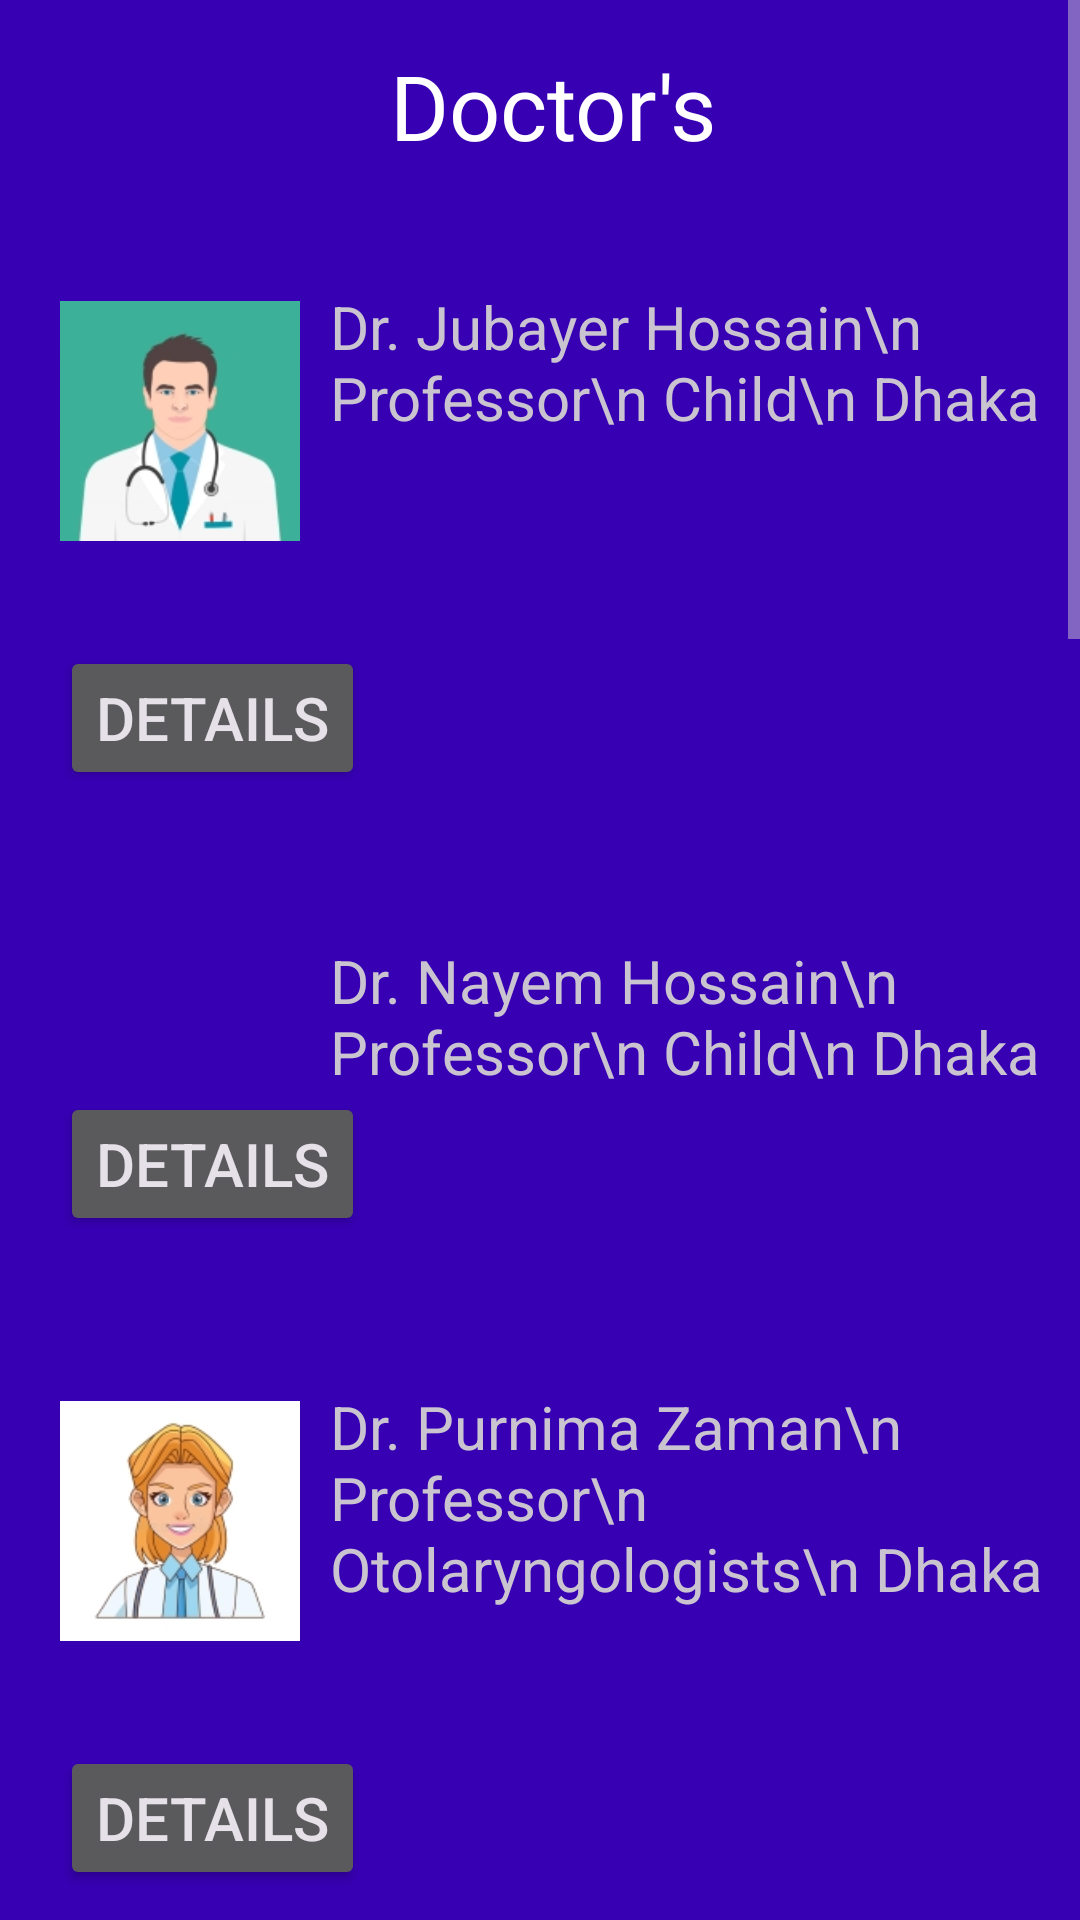

Named icons in this screenshot (1080 × 1920) and their centers, (x,y):
doctor male: (180,421)
